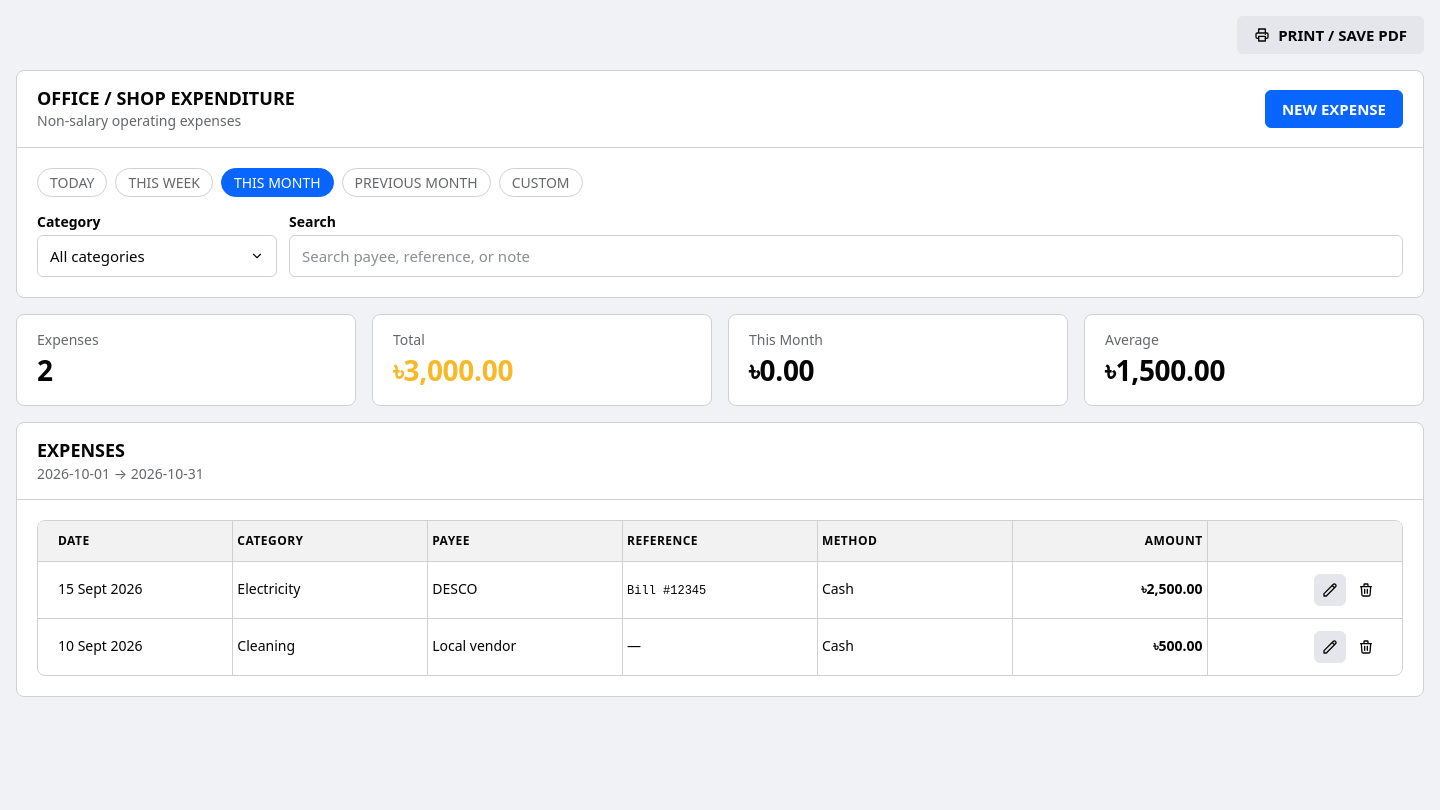
it: ExpenditurePage › opens the create modal
This screenshot has width=1440, height=810.
Check: the text "DESCO" is shown, box [428,561,622,618]
Click the button "New expense" at (1334, 109), box [1265,90,1403,128]
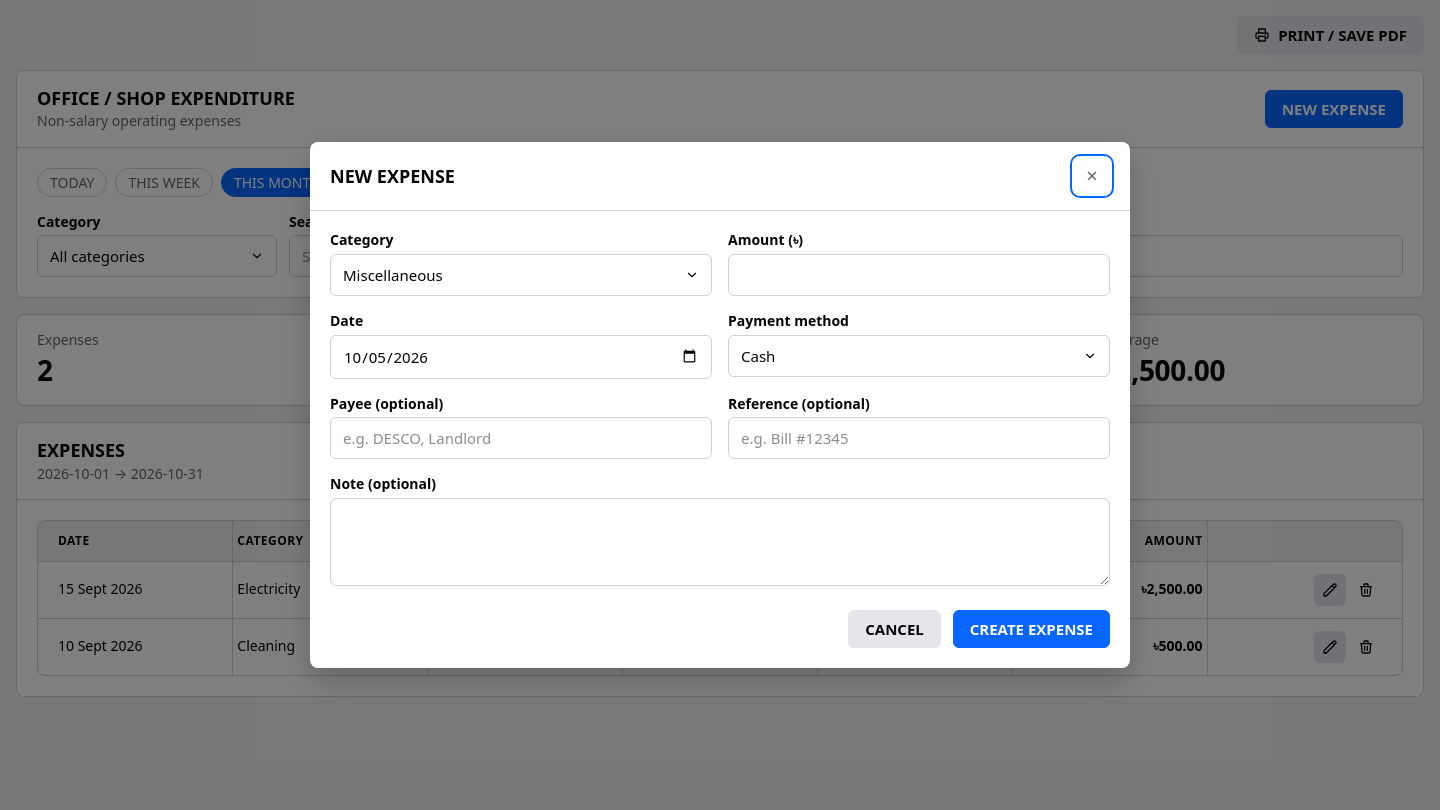
Check: the dialog is shown, box [310,142,1130,668]
Check: the dropdown labelled "Category" is shown, box [330,254,712,296]
